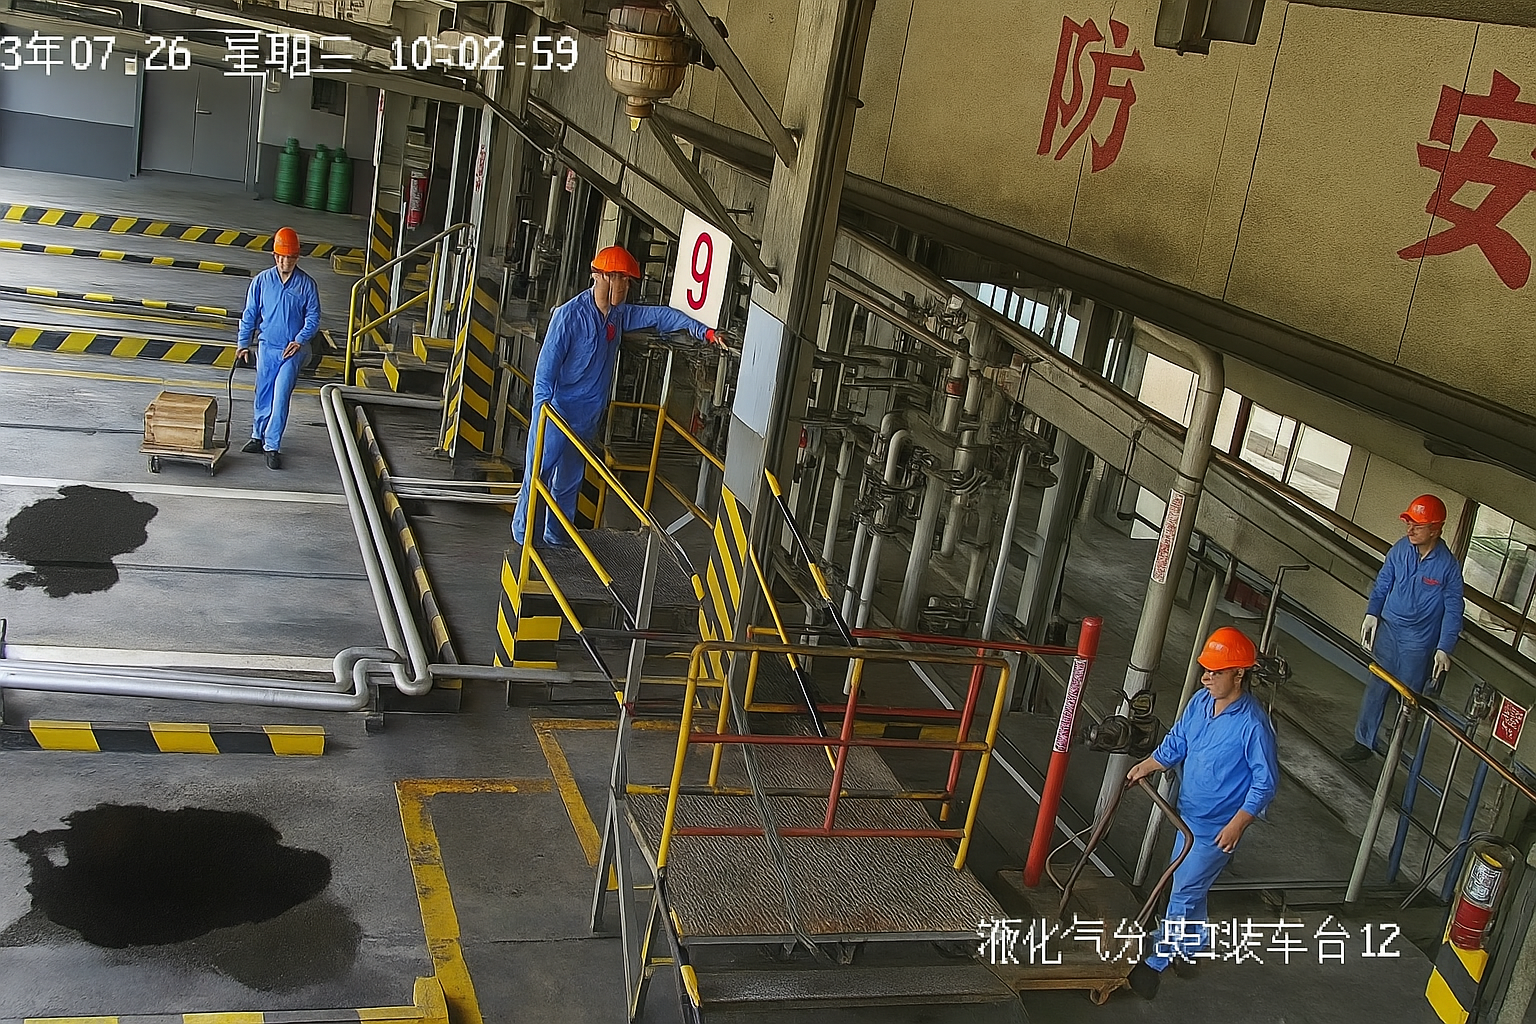safety_cap: (1191, 617, 1267, 674), (586, 240, 647, 285), (1397, 489, 1455, 535), (267, 217, 309, 265)
